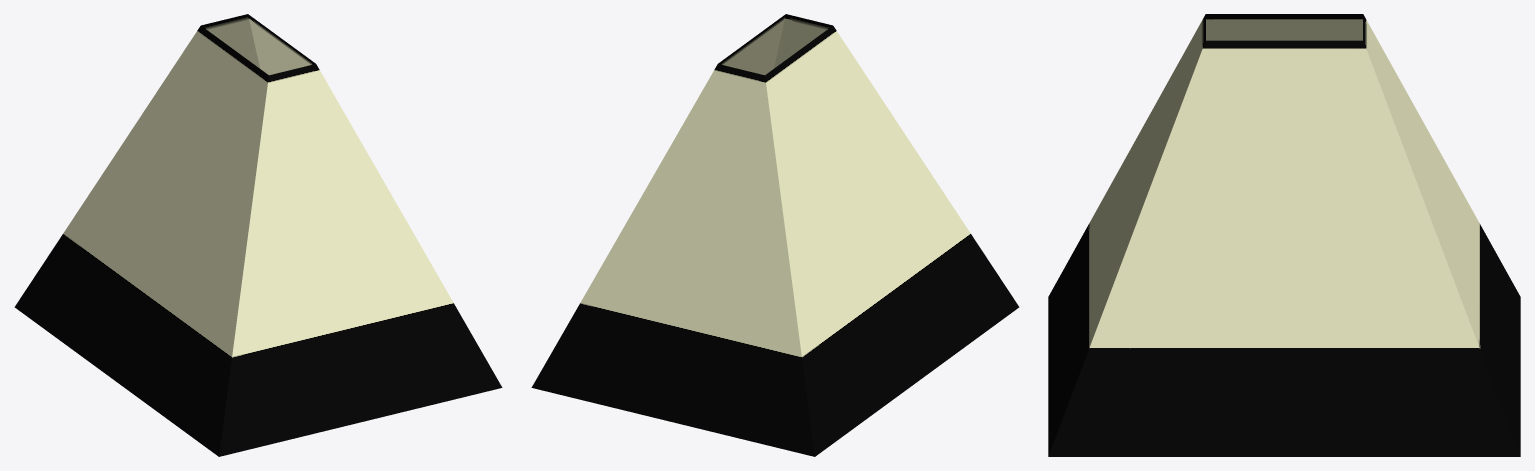
File: ceiling_lamp_2_fake_light_1.obj
3 renders of one model, left to right at view 1: azimuth 30°, elevation 25°; view 2: azimuth 150°, elevation 25°; view 3: azimuth 270°, elevation 25°, orthographic. The views are drawn at different scales.
Visible parts, largest first — view 1: ceiling_lamp_2_fake_light_1; view 2: ceiling_lamp_2_fake_light_1; view 3: ceiling_lamp_2_fake_light_1.
Part boxes in pixels (bbox=[...]): ceiling_lamp_2_fake_light_1: bbox=[14, 14, 502, 456]; ceiling_lamp_2_fake_light_1: bbox=[531, 14, 1019, 456]; ceiling_lamp_2_fake_light_1: bbox=[1048, 14, 1520, 456].
Size of the model in its own units: 2.4 by 2.45 by 3.
